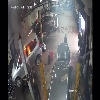fire: (23, 41, 36, 58)
